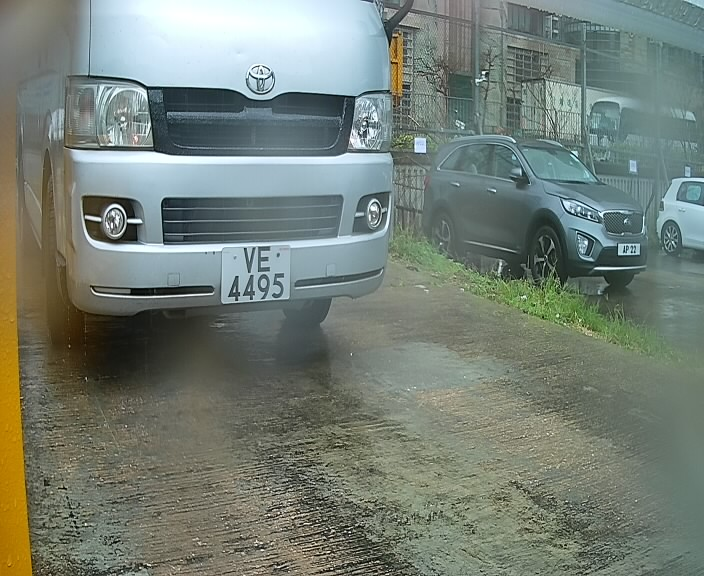License Plate: (214, 240, 304, 315)
